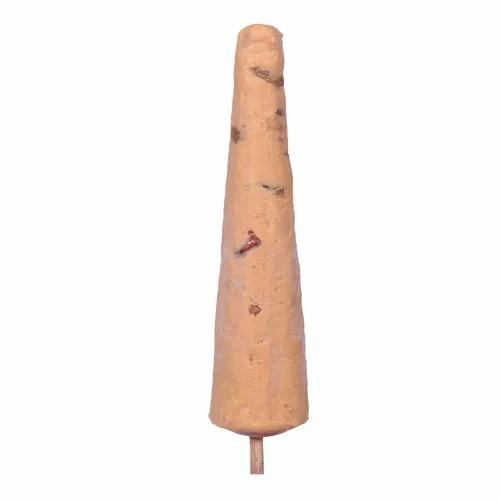Kulfi: (209, 26, 309, 440)
